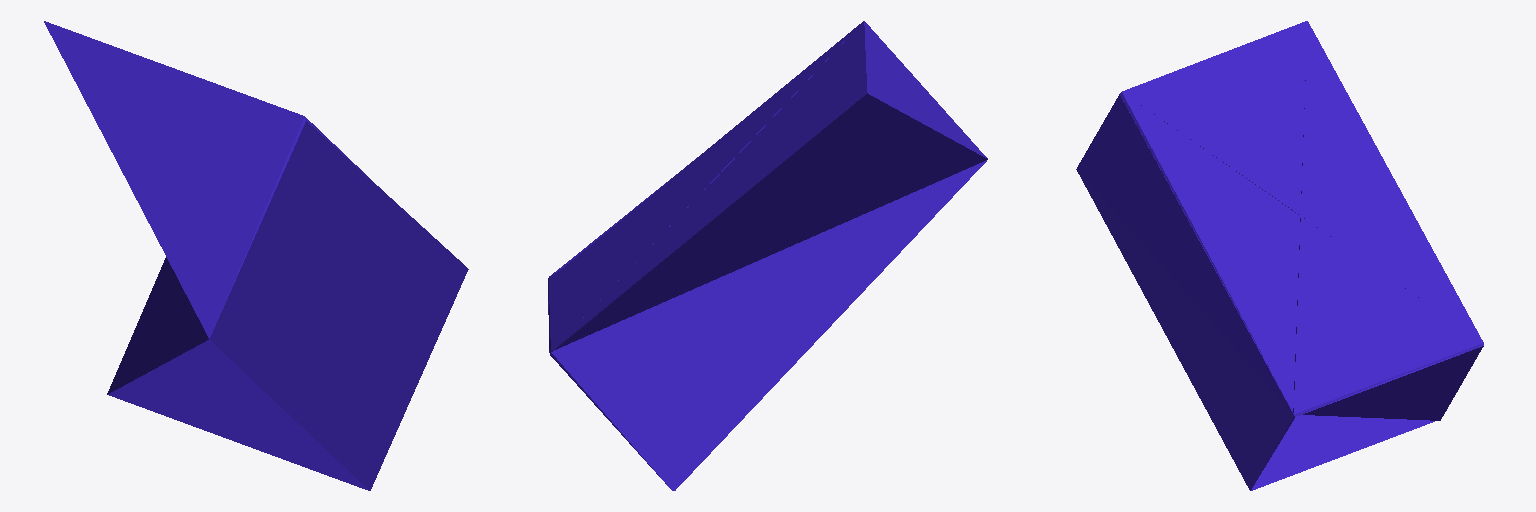
robot.urdf — zonopy_mesh_step29_link6_num1.obj:
<robot name="zonopy_mesh_step29_link6_num1.obj">
	<link name="link0">
		<visual>
			<origin xyz="0 0 0" rpy="0 0 0" />
			<geometry>
				<mesh filename="zonopy_mesh_step29_link6_num1.obj" scale="1.0 1.0 1.0" />
			</geometry>
			<material name="texture">
				<color rgba="0.3 0.2 0.8 0.5" />
			</material>
		</visual>
		<inertial>
			<mass value="0" />
			<inertia ixx="0.0" ixy="0.0" ixz="0.0" iyy="0.0" iyz="0.0" izz="0.0" />
		</inertial>
	<collision><geometry><mesh filename="zonopy_mesh_step29_link6_num1.obj" /></geometry></collision></link>
</robot>

--- What the picture shows (computed from the rendered views, not written in the file) ---
The picture shows the robot from 3 angles, left to right: view 1: azimuth 30°, elevation 25°; view 2: azimuth 150°, elevation 25°; view 3: azimuth 270°, elevation 25°; orthographic projection.
Robot: zonopy_mesh_step29_link6_num1.obj — 1 links, 0 joints (none); root link link0; default pose: all joints at 0.
Visible links, largest first — view 1: link0; view 2: link0; view 3: link0.
Link boxes in pixels (box(x1,y1,x2,y2)): link0: box(44, 21, 468, 490); link0: box(548, 21, 987, 490); link0: box(1076, 21, 1483, 490).
Size in the robot's own frame: 0.139 by 0.1634 by 0.1635 metres.
1 mesh visuals loaded from 1 distinct referenced files (1 OBJ).